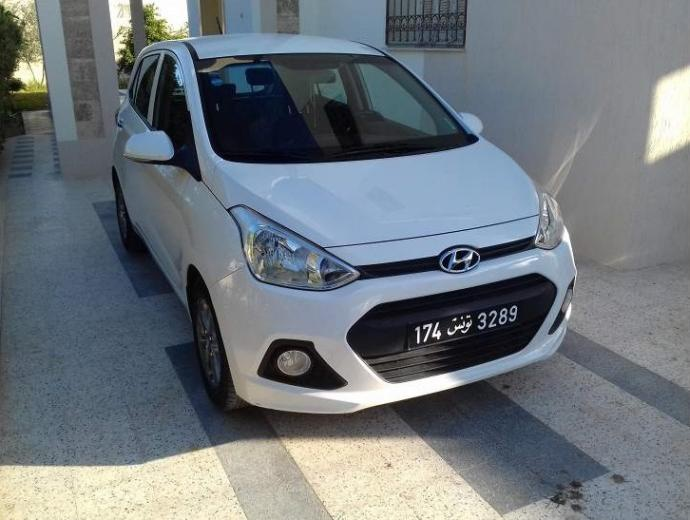LP: (402, 301, 526, 351)
